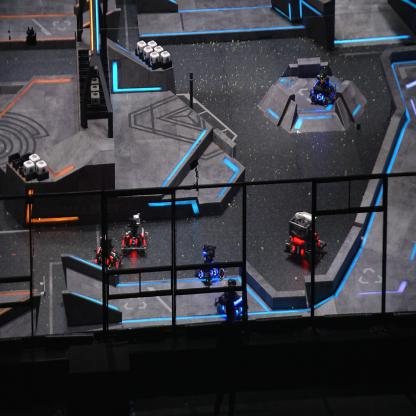car: (284, 210, 327, 266), (214, 278, 247, 322), (194, 243, 226, 284), (121, 211, 149, 256), (308, 66, 338, 107), (94, 235, 123, 275)
